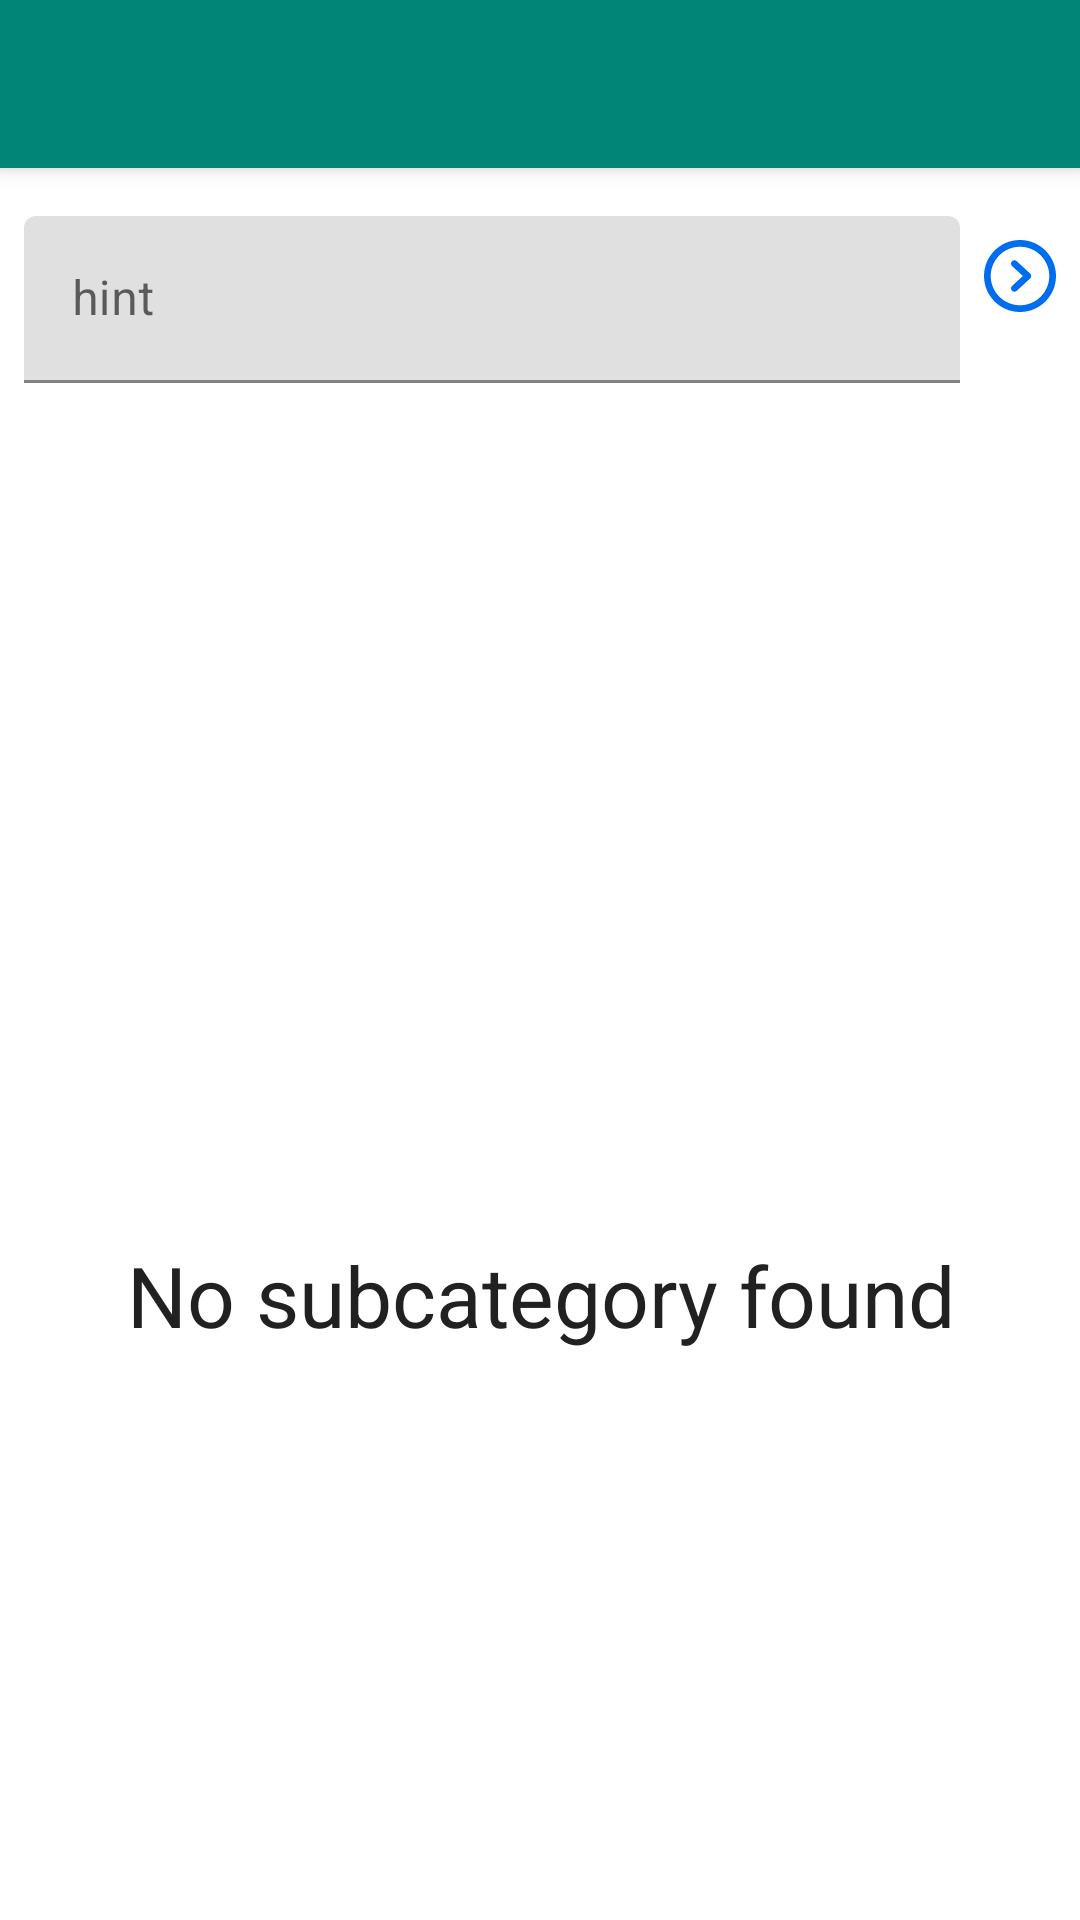

Named icons in this screenshot (1080px x 1920px) and their centers, (x=x, y=y):
right arrow circular: (x=1020, y=276)
